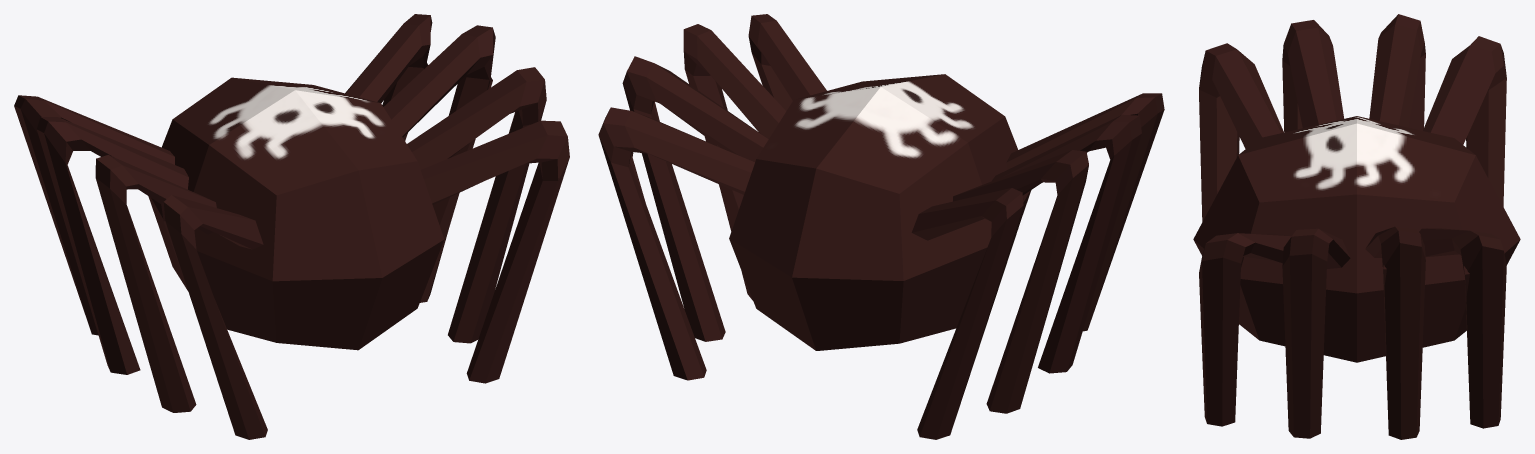
The model's file is Spider_Color.fbx.
3 views of the same model, side by side, from view 1: azimuth 30°, elevation 25°; view 2: azimuth 150°, elevation 25°; view 3: azimuth 270°, elevation 25° (orthographic). The views are drawn at different scales.
Parts seen in each view (by area): view 1: Araña; view 2: Araña; view 3: Araña.
Boxes of the visible parts, x1,y1,x2,y2 form: Araña: (14,14,569,439); Araña: (598,14,1164,439); Araña: (1193,14,1520,439).
Size of the model in its own units: 16.49 by 9.34 by 11.06.
